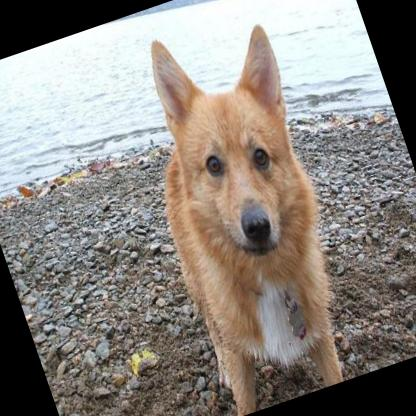Pembroke: (107, 4, 382, 416)
